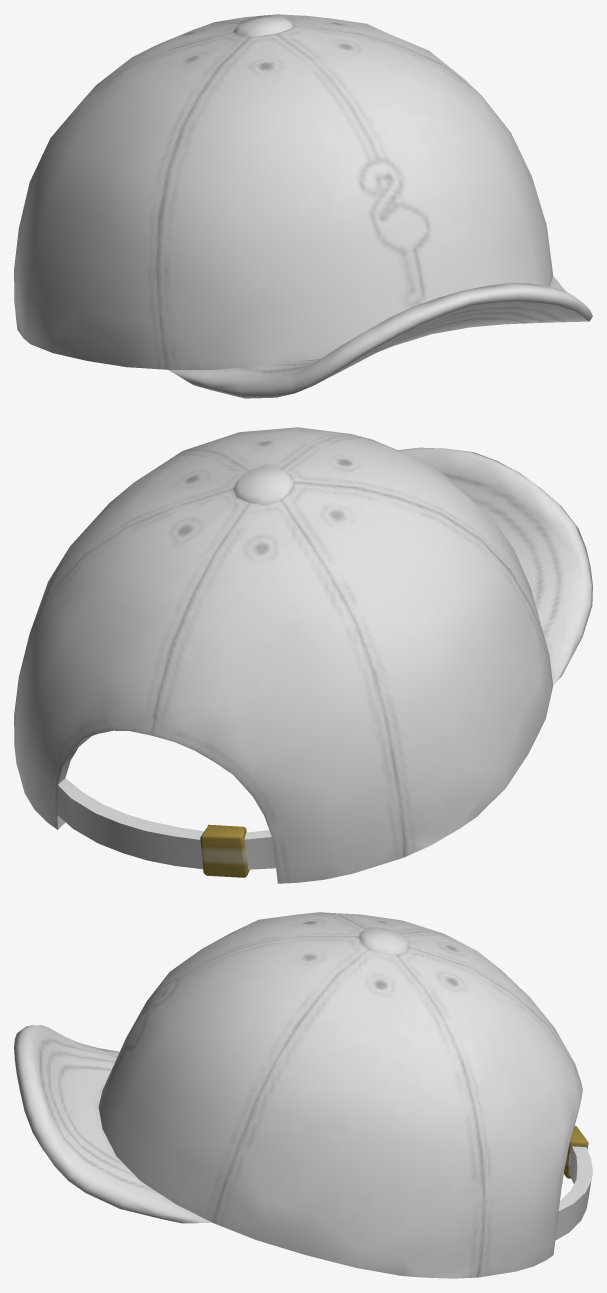
Rendered from p0_hdw1012_00_hdw00.gltf.
3 views of the same model, one above another, from view 1: azimuth 30°, elevation 25°; view 2: azimuth 150°, elevation 25°; view 3: azimuth 270°, elevation 25° (orthographic). The views are drawn at different scales.
Visible parts, largest first — view 1: hdw00_cap_mesh_shape:cap; view 2: hdw00_cap_mesh_shape:cap; view 3: hdw00_cap_mesh_shape:cap.
Part boxes in pixels (x1,y1,x2,y2): hdw00_cap_mesh_shape:cap: [14, 14, 592, 398]; hdw00_cap_mesh_shape:cap: [14, 427, 592, 883]; hdw00_cap_mesh_shape:cap: [14, 912, 592, 1278].
Size of what is drawn, in the model's own units: 0.2867 by 0.1882 by 0.359.
Materials: 1 (1 with a texture image).
